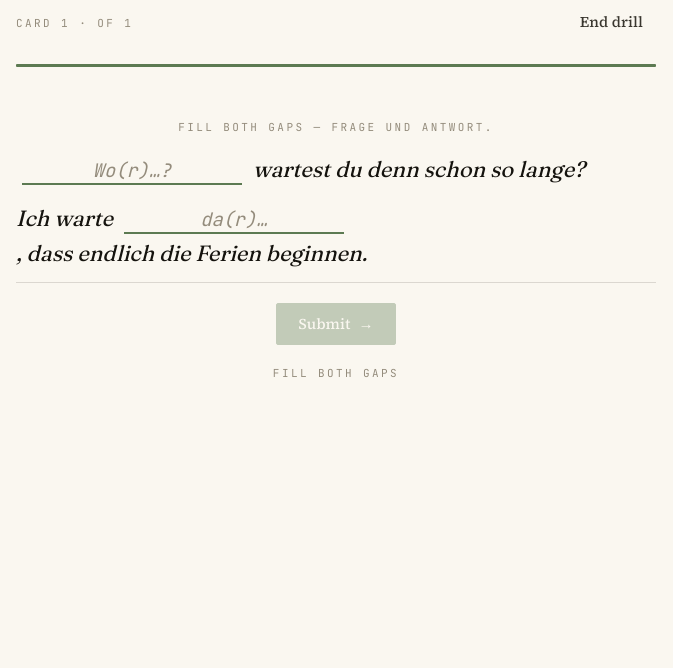
Test case: DialogueRunner — smoke tests › reveals feedback after submitting
Type "xyz-wrong" into the field with class "dlg-gap-input" showing "Wo(r)…?".
click(132, 171); type("xyz-wrong")  # box x1=22 y1=158 x2=242 y2=185
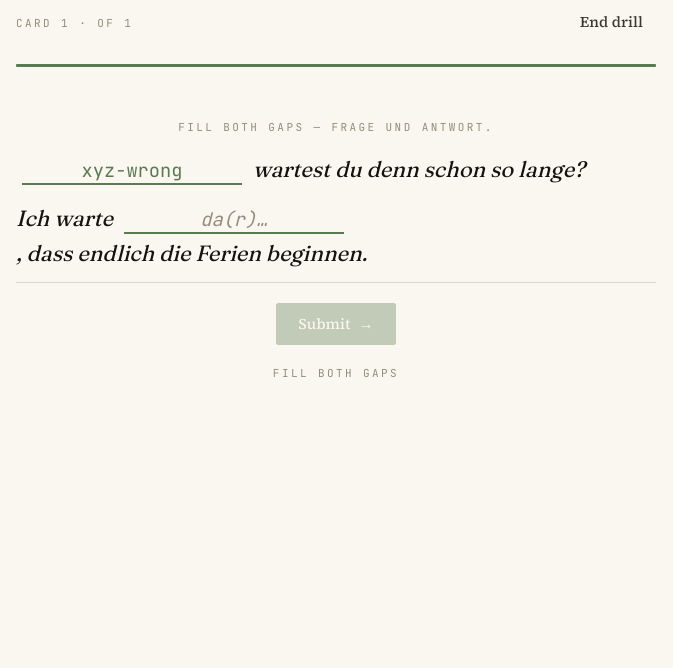
Type "xyz-wrong-too" into the field with class "dlg-gap-input" showing "da(r)…".
click(234, 220); type("xyz-wrong-too")  # box x1=124 y1=207 x2=344 y2=234
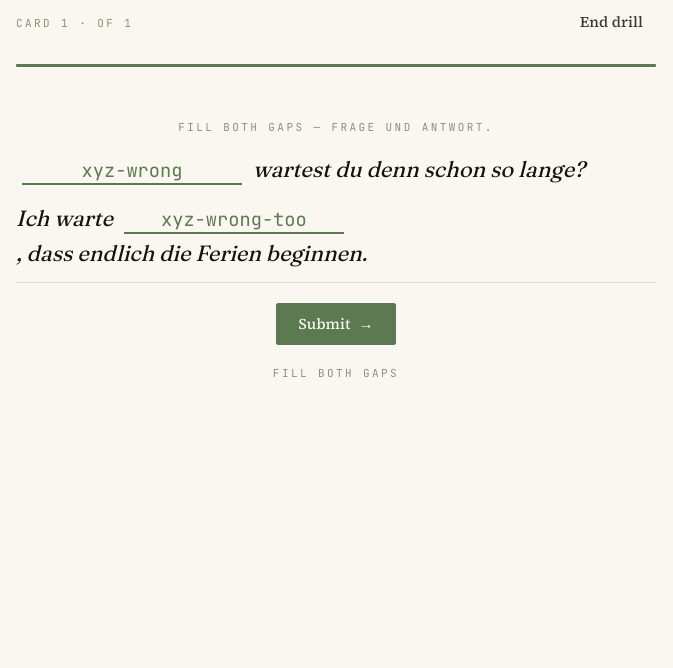
Click the button "Submit →".
click(336, 324)  # box x1=276 y1=303 x2=396 y2=345
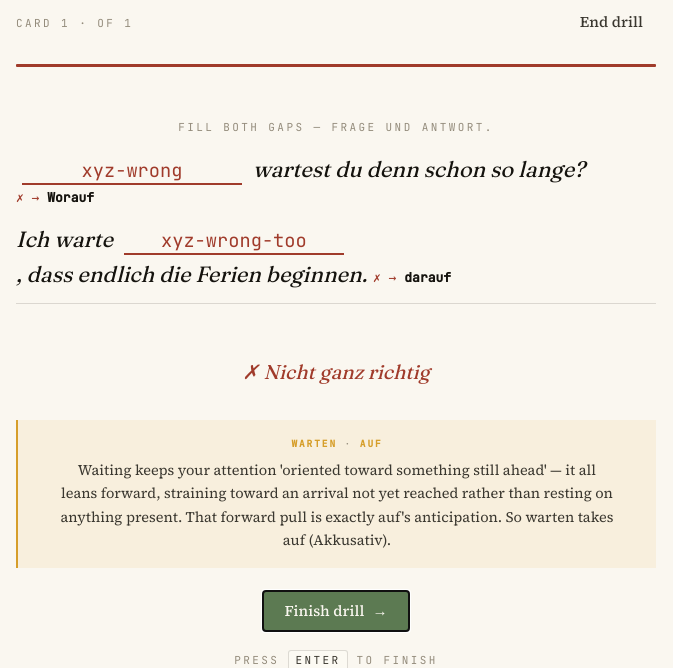
Check: the element with class "drill-feedback" is shown, box x1=16 y1=328 x2=656 y2=632
